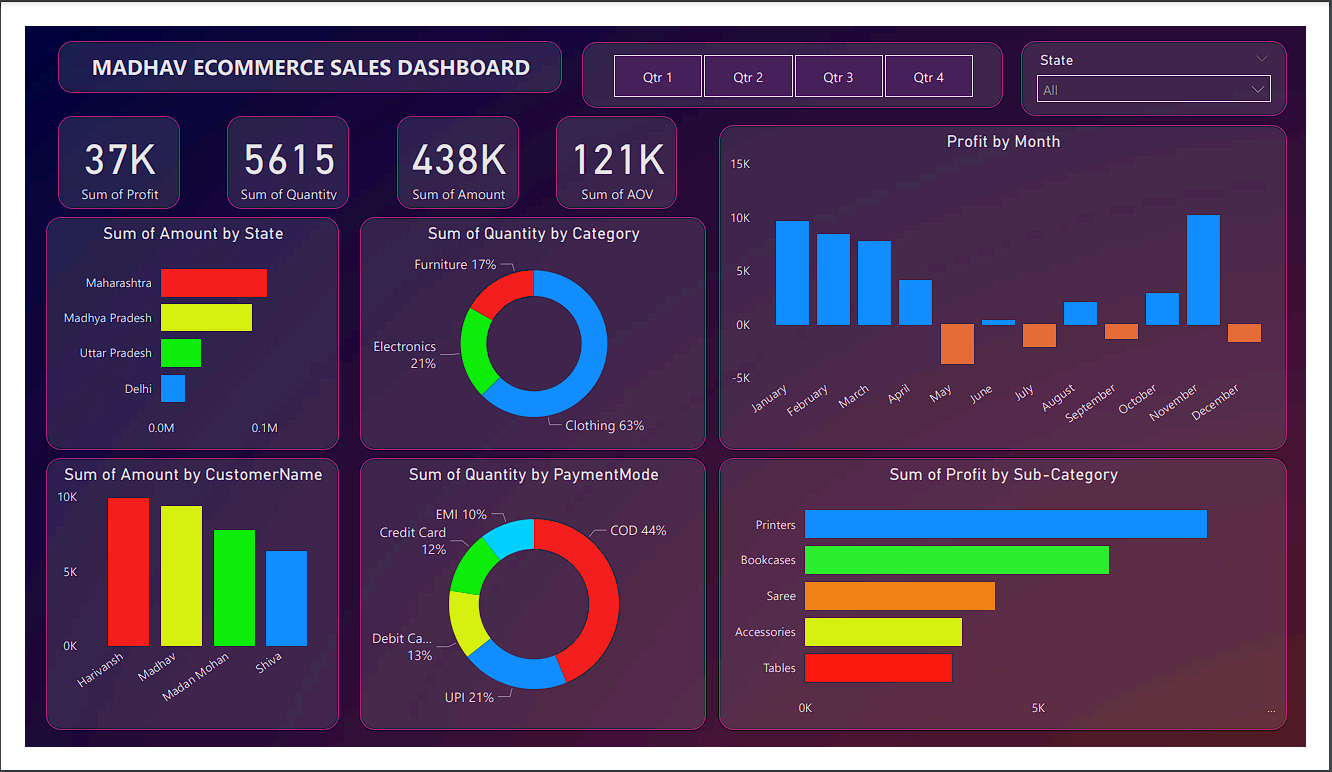

What the dashboard file says about the page in this screenshot:
{"tool":"powerbi","page":{"name":"Page 1","canvas":[1280,720],"ordinal":0},"visuals":[{"type":"textbox","box":[33,14.6,504.4,52.5],"z":0},{"type":"columnChart","title":"Profit by Month","fields":{"Category":["Orders.Order Date.Variation.Date Hierarchy.Month"],"Y":["Details.Profit"]},"box":[693.9,99.1,567.6,324.6],"z":1000},{"type":"barChart","fields":{"Category":["Details.Sub-Category"],"Y":["Details.Profit"]},"box":[693.9,432.5,567.6,271.2],"z":2000},{"type":"donutChart","fields":{"Category":["Details.Category"],"Y":["Details.Quantity"]},"box":[335.3,191.5,346,232.3],"z":3000},{"type":"donutChart","fields":{"Y":["Details.Quantity"],"Category":["Details.PaymentMode"]},"box":[335.3,432.5,346,271.2],"z":4000},{"type":"card","fields":{"Values":["Details.Amount"]},"box":[372.2,90.4,121.5,92.3],"z":5000},{"type":"card","fields":{"Values":["Details.AOV"]},"box":[530.7,90.4,121.5,92.3],"z":6000},{"type":"card","fields":{"Values":["Details.Profit"]},"box":[33,90.4,121.5,92.3],"z":7000},{"type":"card","fields":{"Values":["Details.Quantity"]},"box":[202.2,90.4,121.5,92.3],"z":8000},{"type":"barChart","fields":{"Category":["Orders.State"],"Y":["Details.Amount"]},"box":[21.4,191.5,292.5,232.3],"z":9000},{"type":"columnChart","fields":{"Category":["Orders.CustomerName"],"Y":["Details.Amount"]},"box":[21.4,432.5,292.5,271.2],"z":10000},{"type":"slicer","fields":{"Values":["Orders.Order Date.Variation.Date Hierarchy.Quarter"]},"box":[556.9,15.6,420.8,66.1],"z":11000},{"type":"slicer","fields":{"Values":["Orders.State"]},"box":[996.2,14.6,265.3,75.8],"z":12000}]}

Visuals, with their boxes in screenshot pixels (x1, y1, x2, y2), scaled from the page's 1280x720 canvas onto the 1332x772 screenshot:
textbox: 34, 16, 559, 72
"Profit by Month" columnChart: 722, 106, 1313, 454
barChart - Details.Sub-Category x Details.Profit: 722, 464, 1313, 755
donutChart - Details.Category x Details.Quantity: 349, 205, 709, 454
donutChart - Details.Quantity x Details.PaymentMode: 349, 464, 709, 755
card - Details.Amount: 387, 97, 514, 196
card - Details.AOV: 552, 97, 679, 196
card - Details.Profit: 34, 97, 161, 196
card - Details.Quantity: 210, 97, 337, 196
barChart - Orders.State x Details.Amount: 22, 205, 327, 454
columnChart - Orders.CustomerName x Details.Amount: 22, 464, 327, 755
slicer - Orders.Order Date.Variation.Date Hierarchy.Quarter: 580, 17, 1017, 88
slicer - Orders.State: 1037, 16, 1313, 97
